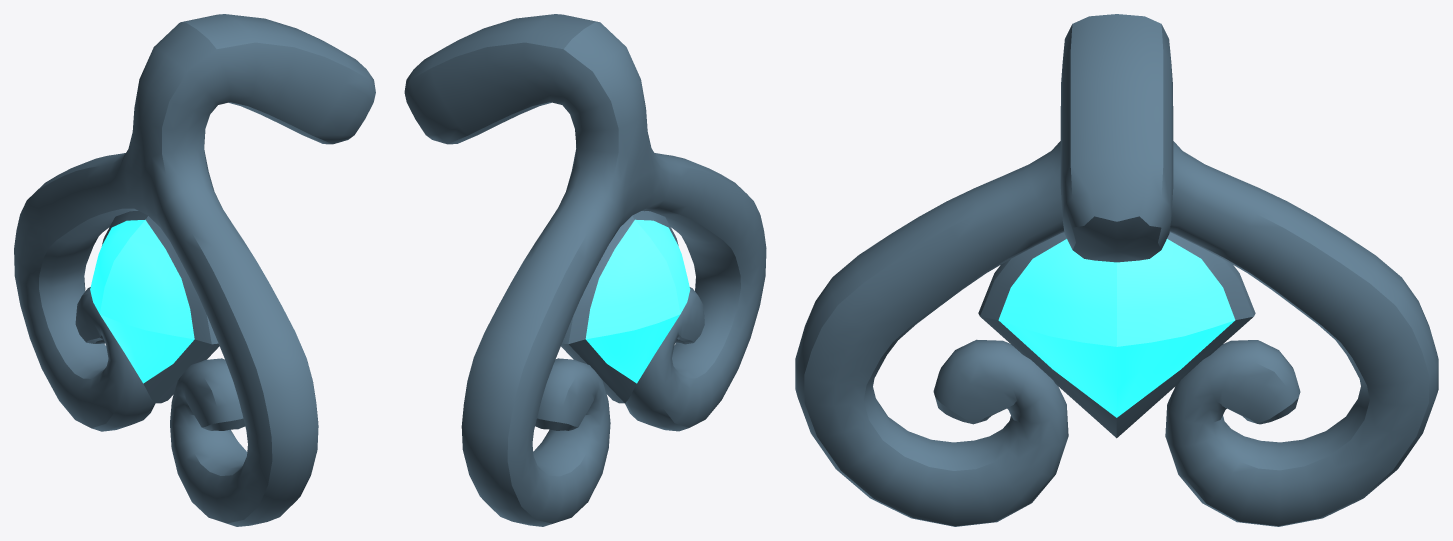
Rendered from Wall_Light.fbx.
3 views of the same model, side by side, from view 1: azimuth 30°, elevation 25°; view 2: azimuth 150°, elevation 25°; view 3: azimuth 270°, elevation 25° (orthographic). The views are drawn at different scales.
Visible parts, largest first — view 1: Light; view 2: Light; view 3: Light.
Boxes of the visible parts, x1,y1,x2,y2 form: Light: [14, 14, 375, 526]; Light: [404, 14, 766, 526]; Light: [795, 14, 1438, 526].
Bounding box in the file's own units: 301 × 468 × 520.
